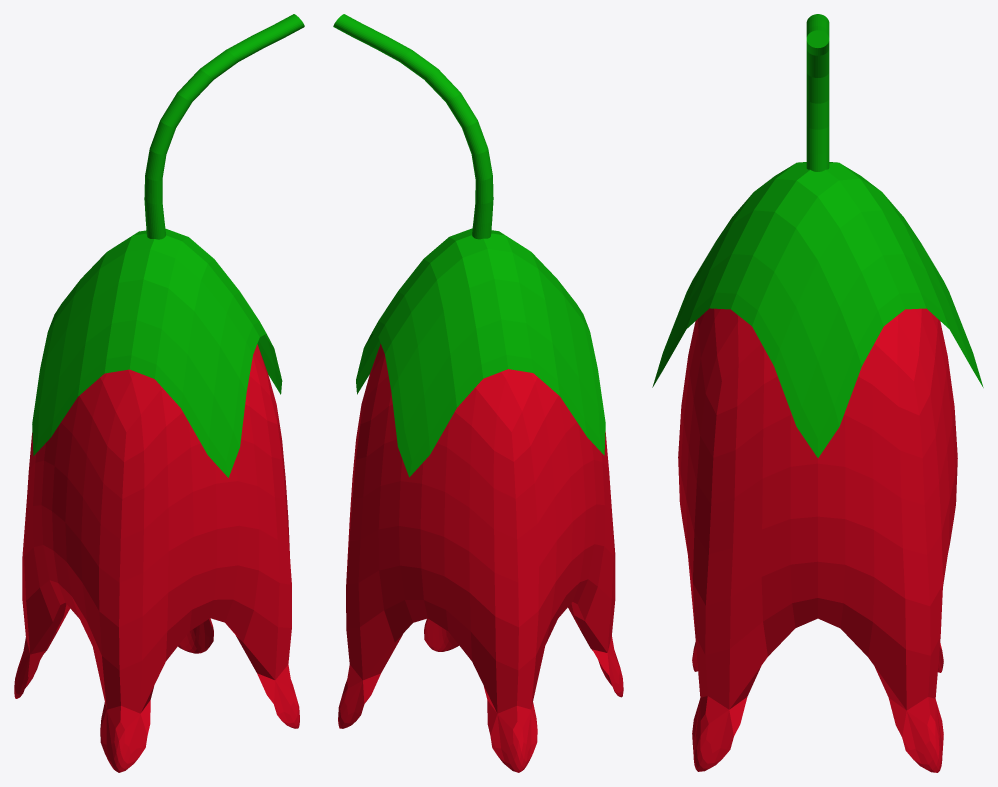
Rendered from ホタルブクロ赤色.fbx.
The picture shows the model from 3 angles, left to right: view 1: azimuth 30°, elevation 25°; view 2: azimuth 150°, elevation 25°; view 3: azimuth 270°, elevation 25°; orthographic projection. The views are drawn at different scales.
Visible parts, largest first — view 1: Cube.001, Cube, Cylinder; view 2: Cube.001, Cube, Cylinder; view 3: Cube.001, Cube, Cylinder.
Part boxes in pixels (x1,y1,x2,y2): Cube.001: (14,344,299,772); Cube: (32,228,282,477); Cylinder: (144,14,304,239); Cube.001: (338,344,623,772); Cube: (356,228,605,477); Cylinder: (333,14,493,239); Cube.001: (678,308,957,772); Cube: (652,162,983,457); Cylinder: (806,14,829,171).
Size of the model in its own units: 337 by 797 by 311.
